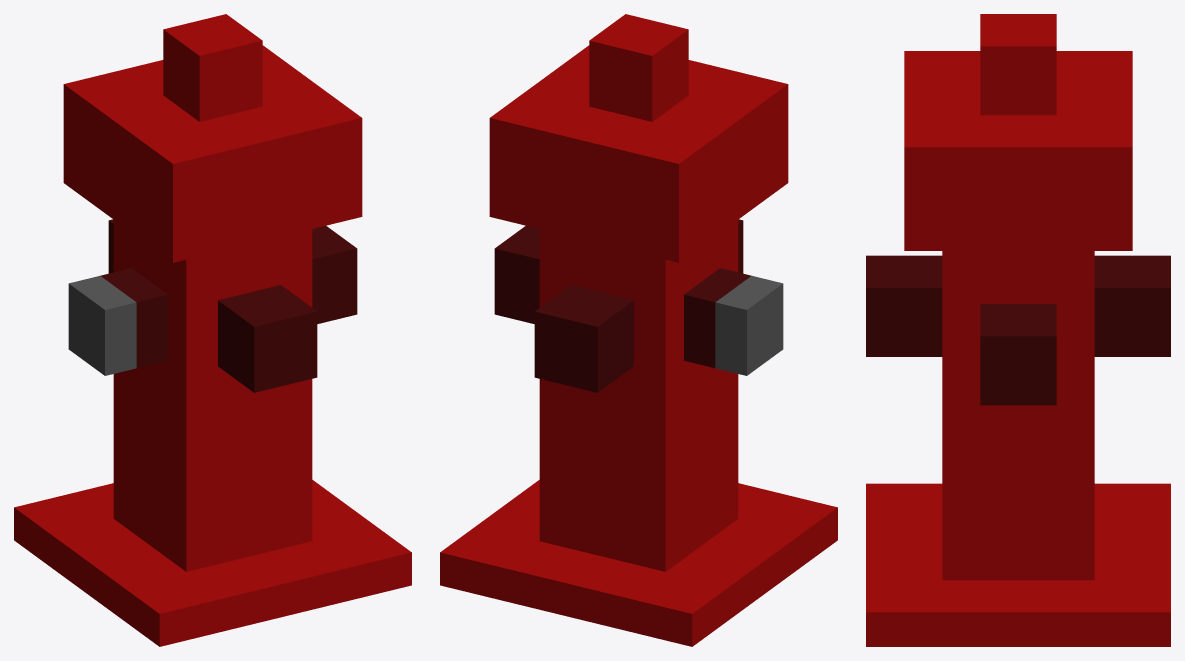
Rendered from hydrant.obj.
The picture shows the model from 3 angles, left to right: view 1: azimuth 30°, elevation 25°; view 2: azimuth 150°, elevation 25°; view 3: azimuth 270°, elevation 25°; orthographic projection. The views are drawn at different scales.
Bounding box in the file's own units: 0.8 × 1.6 × 0.8.
1 material, 1 textured.
